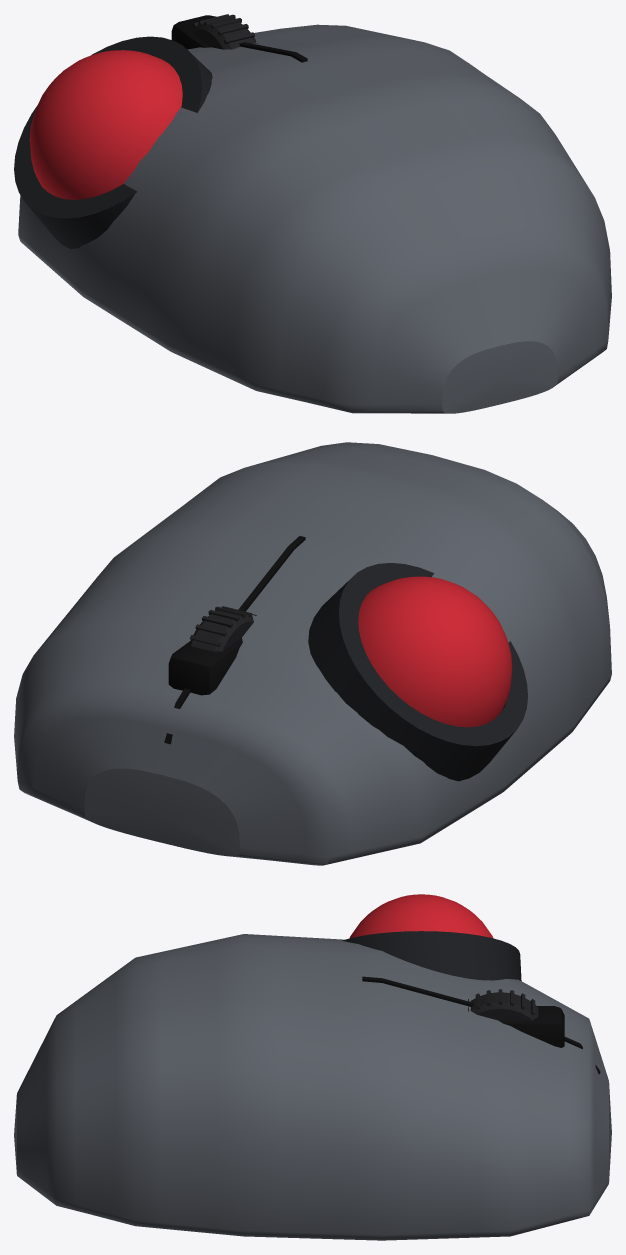
Rendered from trackball-mouse.glb.
3 views of the same model, one above another, from view 1: azimuth 30°, elevation 25°; view 2: azimuth 150°, elevation 25°; view 3: azimuth 270°, elevation 25° (orthographic). The views are drawn at different scales.
Visible parts, largest first — view 1: Trackball_Mouse; view 2: Trackball_Mouse; view 3: Trackball_Mouse.
Boxes of the visible parts, left/top/right/bottom form: Trackball_Mouse: left=14, top=14, right=611, bottom=413; Trackball_Mouse: left=14, top=442, right=611, bottom=865; Trackball_Mouse: left=14, top=894, right=611, bottom=1240.
Bounding box in the file's own units: 0.0935 × 0.0435 × 0.1212.
